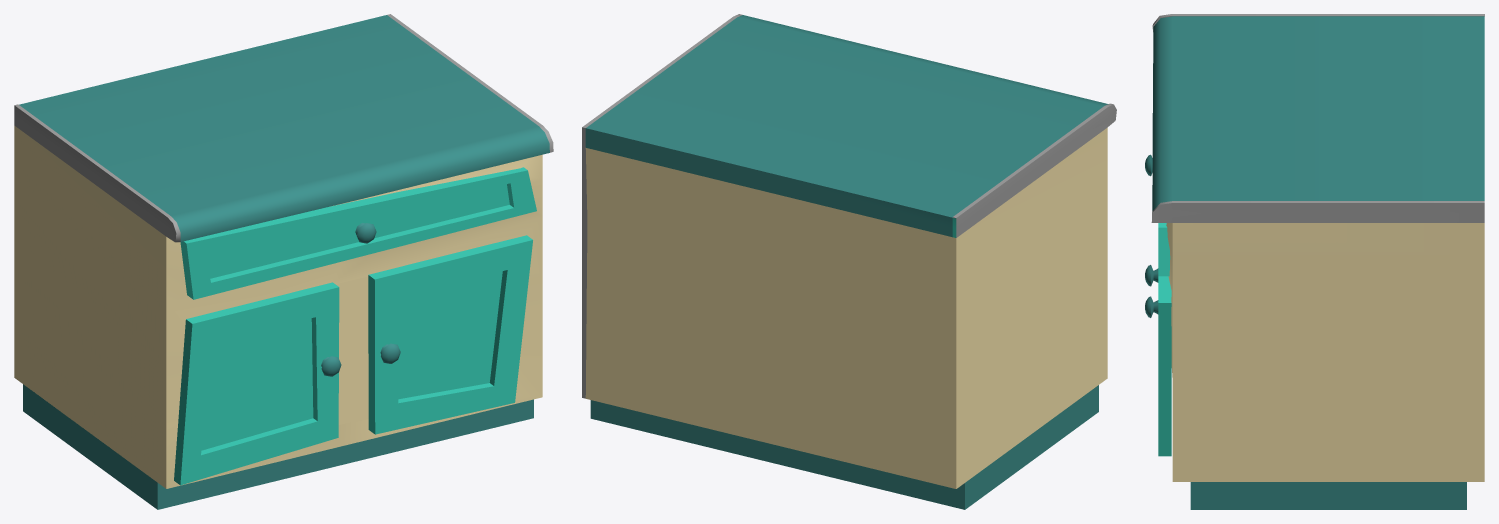
File: WorkTable3.fbx
3 views of the same model, side by side, from view 1: azimuth 30°, elevation 25°; view 2: azimuth 150°, elevation 25°; view 3: azimuth 270°, elevation 25° (orthographic). The views are drawn at different scales.
Visible parts, largest first — view 1: Cube.001; view 2: Cube.001; view 3: Cube.001.
Boxes of the visible parts, x1,y1,x2,y2 form: Cube.001: (14, 14, 553, 509); Cube.001: (582, 14, 1116, 509); Cube.001: (1145, 14, 1484, 509).
Size of the model in its own units: 100 by 76.13 by 76.23.
